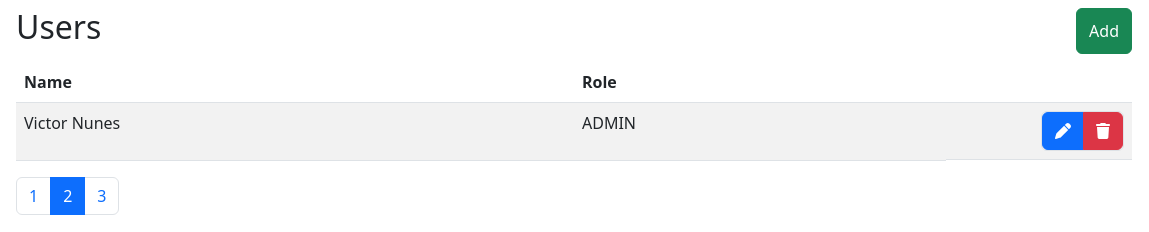
Test: UsersList test › should change table's content when click on previous pagination item
Expected: the row with test id "users-table-row-user-1" shows "Victor Nunes", [24,112,120,134]
Expected: the row with test id "users-table-row-user-1" shows "ADMIN", [582,112,636,134]
Click the button with test id "users-table-pagination-item-previous" at (34, 196), box [16,177,51,215]
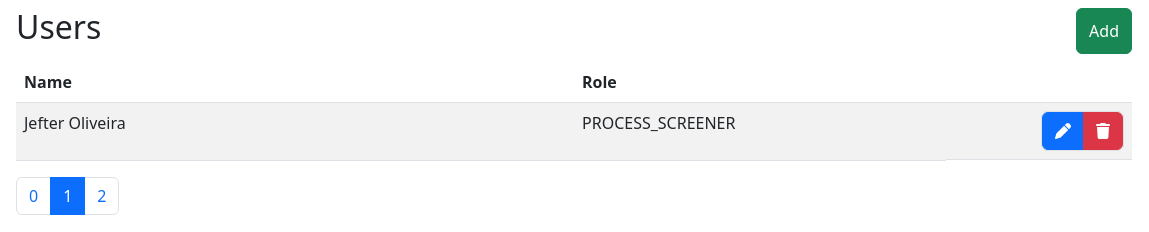
Expected: the row with test id "users-table-row-user-1" is gone
Expected: the row with test id "users-table-row-user-2" shows "Jefter Oliveira", [24,112,126,134]
Expected: the row with test id "users-table-row-user-2" shows "PROCESS_SCREENER", [582,112,736,134]
